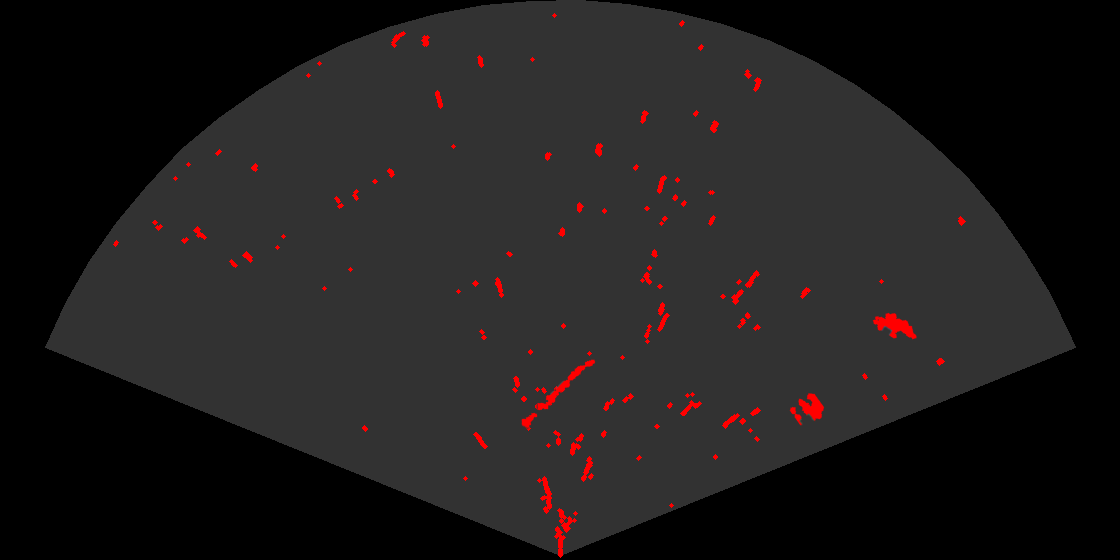AUV: (871, 311, 918, 341)
ball: (788, 392, 826, 427)
chain: (520, 358, 597, 430)
